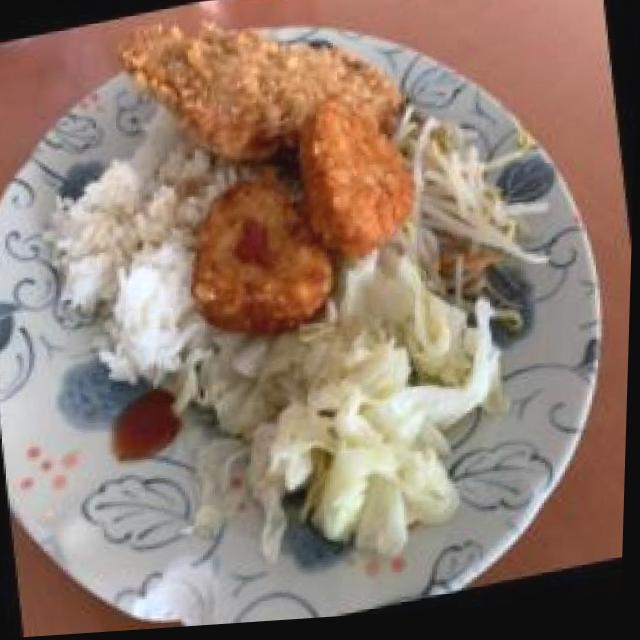chinese_cabbage: (219, 291, 509, 569)
fried_chicken: (118, 0, 395, 166)
mung_bean_sprouts: (400, 102, 540, 307)
rice: (56, 146, 216, 395)
triangle_hash_brown: (180, 103, 420, 343)
